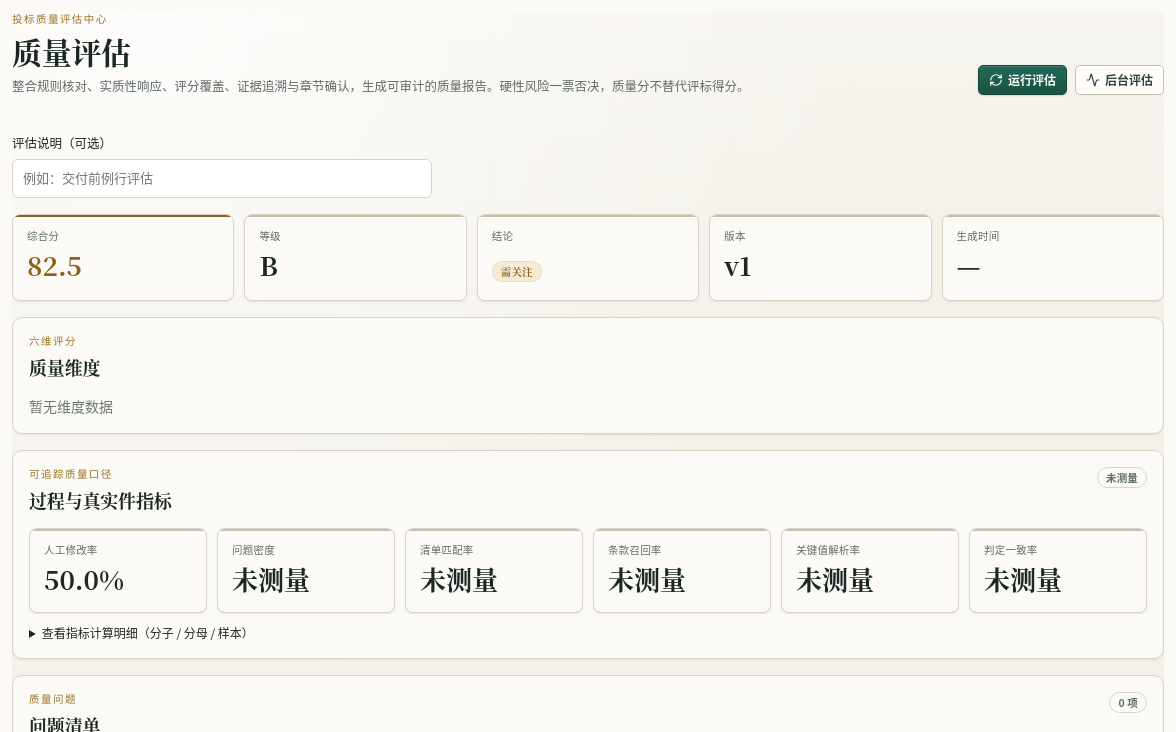
Test: QualityTab 证据与明细 › 指标明细面板展示分子/分母/样本，未测量项不伪造数值
The width and height of the screenshot is (1176, 732).
Click the heading "查看指标计算明细（分子 / 分母 / 样本）".
click(148, 632)  # box [42, 624, 254, 641]
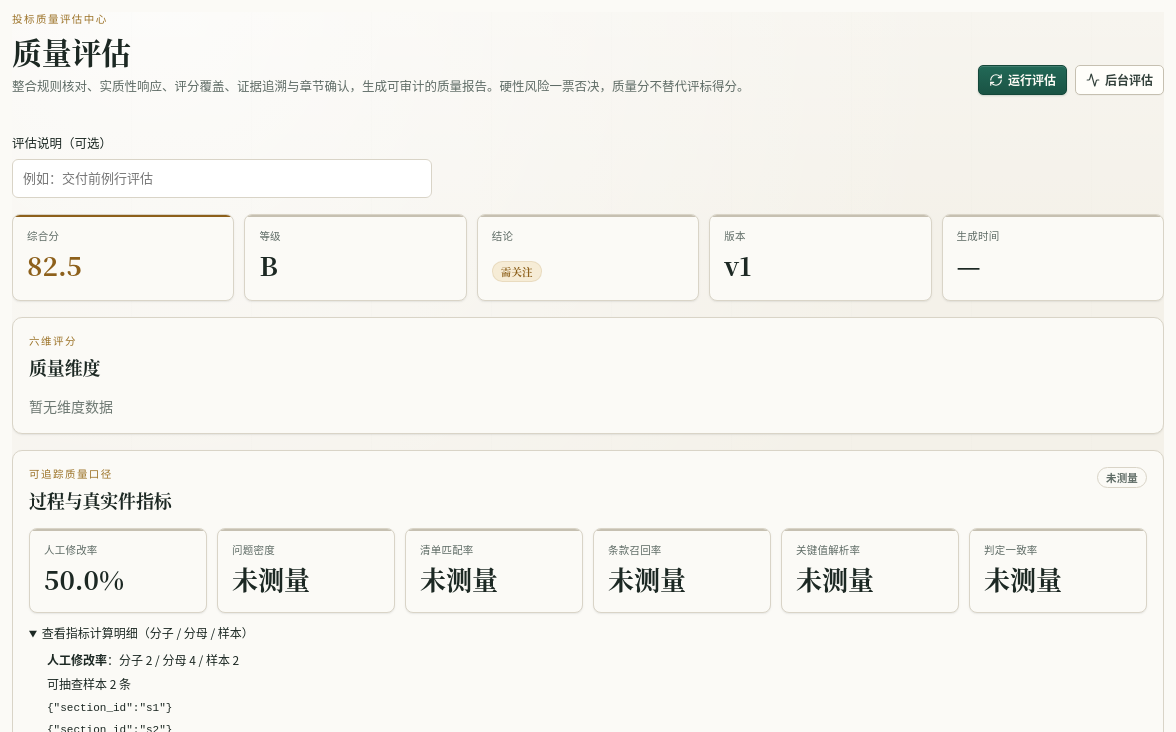
Expected: the text "未测量" in the row of "可追踪质量口径" is shown, [1106, 470, 1138, 485]
Now the list item "分子 2 / 分母 4 / 样本 2" is shown, box [119, 651, 239, 668]
Now the text "可抽查样本 2 条" is shown, box [47, 675, 131, 692]
